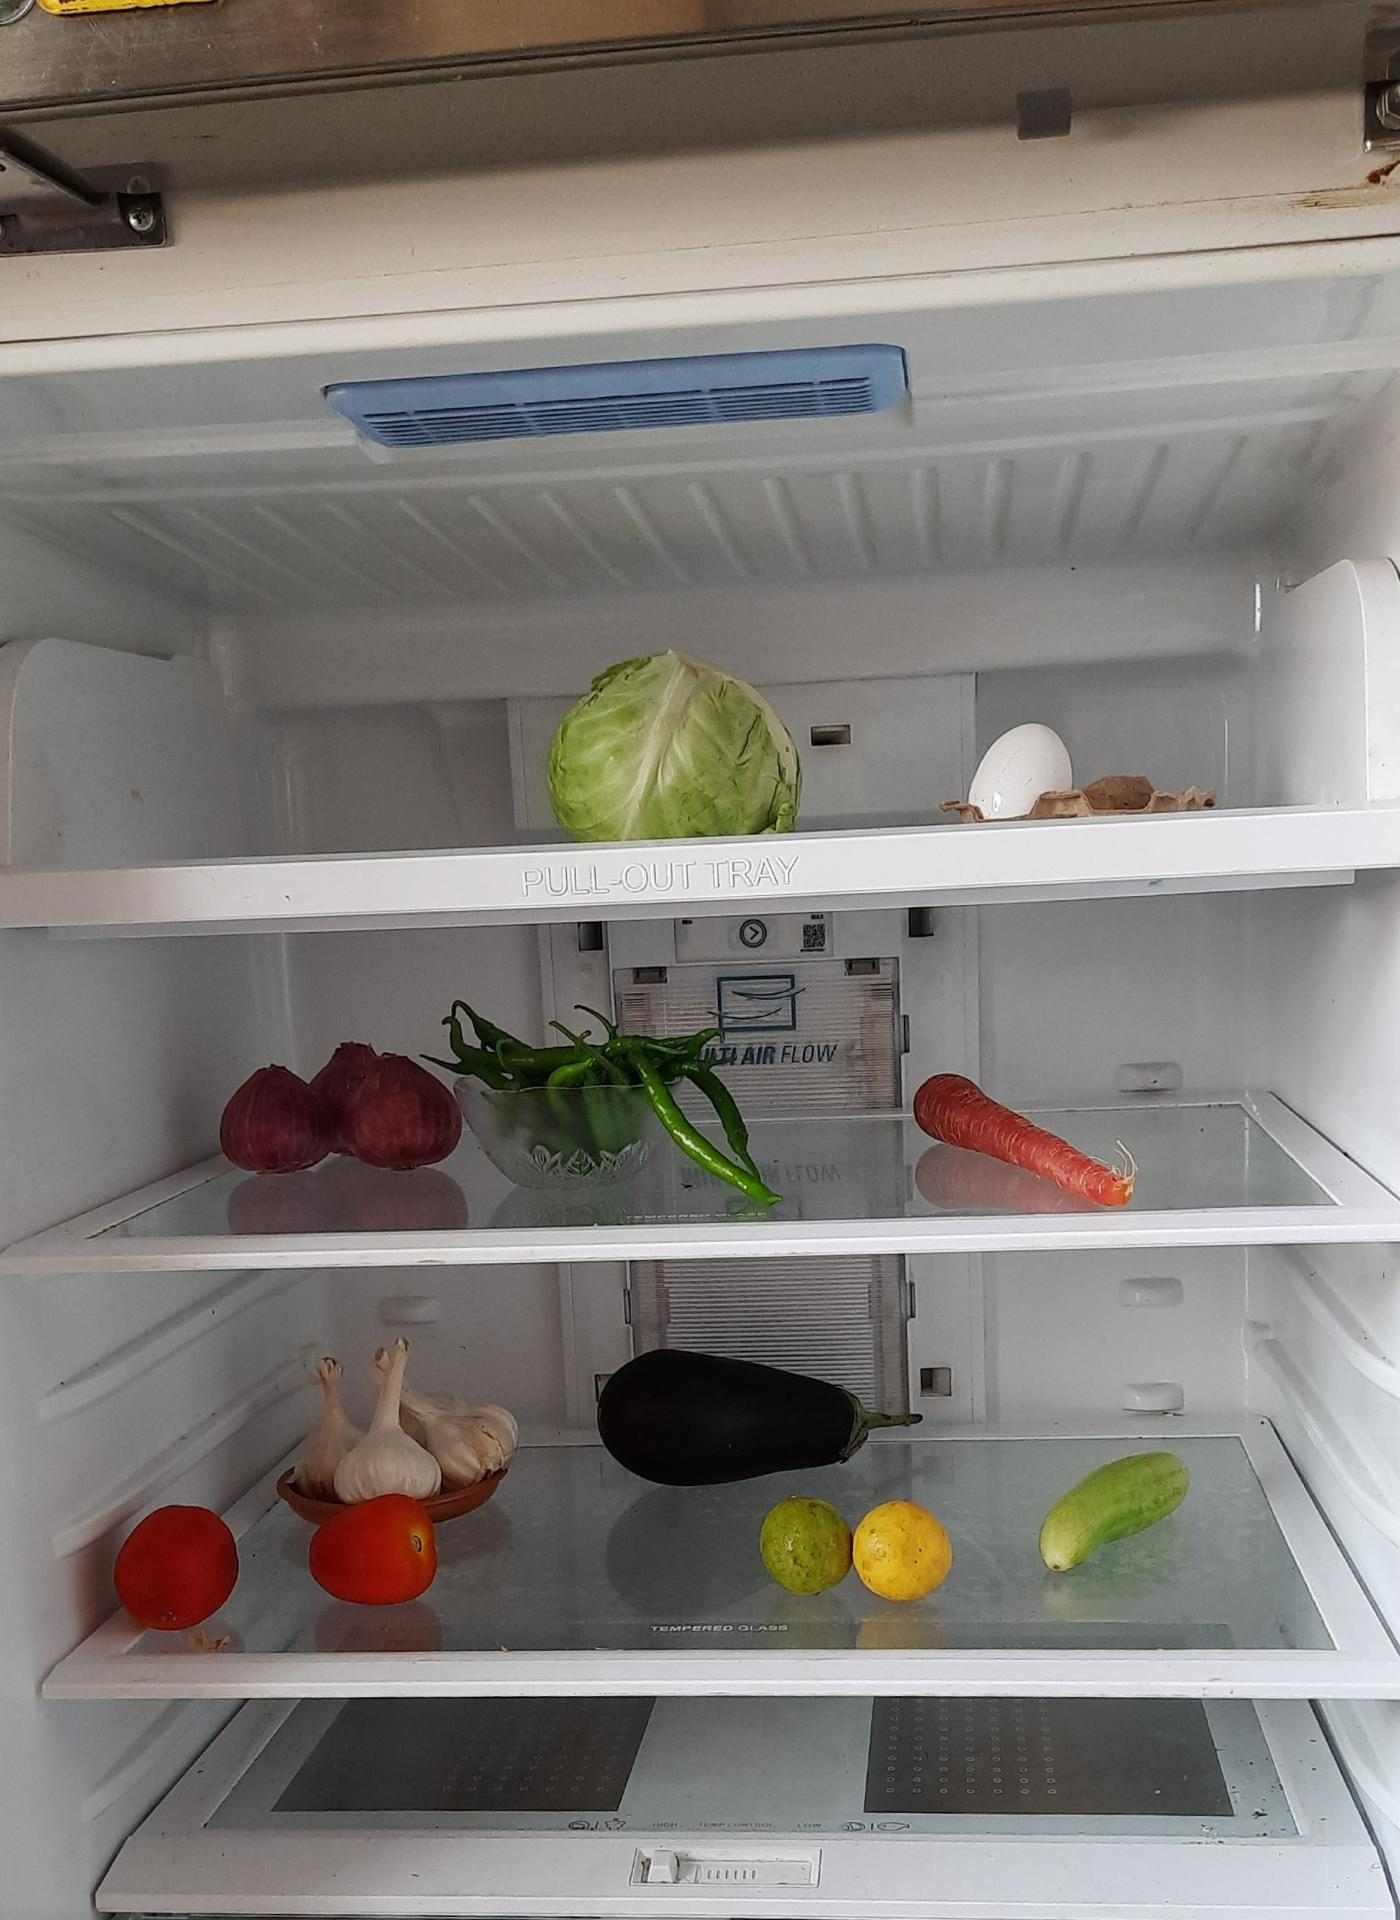brinjal: (593, 1345, 926, 1479)
cabbage: (544, 647, 802, 838)
carrots: (912, 1069, 1130, 1210)
chillies: (450, 993, 780, 1210)
cucumber: (1032, 1447, 1190, 1580)
egg: (957, 711, 1084, 821)
garlic: (300, 1342, 535, 1512)
lemon: (762, 1492, 956, 1610)
onion: (218, 1027, 468, 1199), (218, 1036, 467, 1175)
tomato: (112, 1492, 240, 1628), (310, 1488, 447, 1614)
